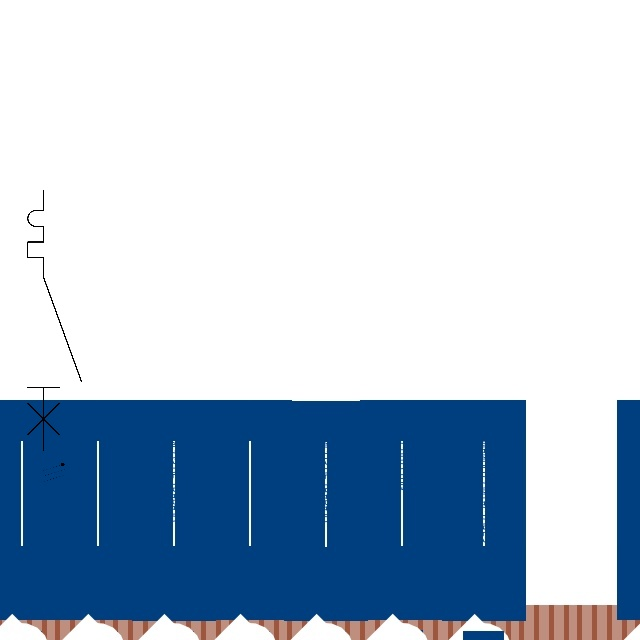interruptor_termomagnetico: (21, 184, 88, 457)
